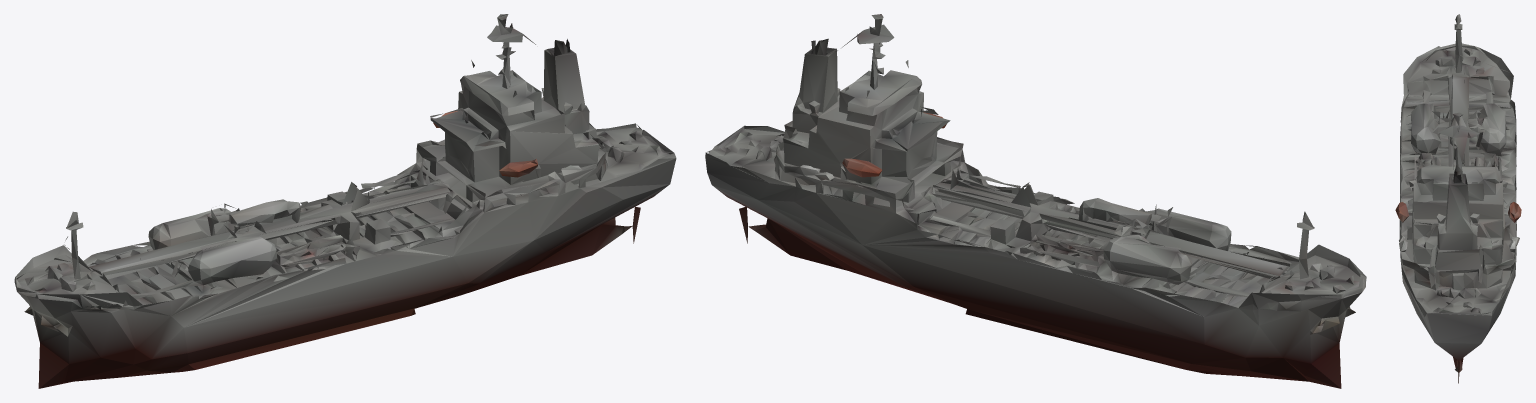
File: tanker.glb
3 views of the same model, side by side, from view 1: azimuth 30°, elevation 25°; view 2: azimuth 150°, elevation 25°; view 3: azimuth 270°, elevation 25° (orthographic). The views are drawn at different scales.
Visible parts, largest first — view 1: tanker; view 2: tanker; view 3: tanker.
Boxes of the visible parts, x1=… form: tanker: x1=14, y1=14, x2=676, y2=388; tanker: x1=705, y1=14, x2=1366, y2=388; tanker: x1=1395, y1=14, x2=1521, y2=383.
Size of the model in its own units: 1.9 by 0.7421 by 0.3827.
